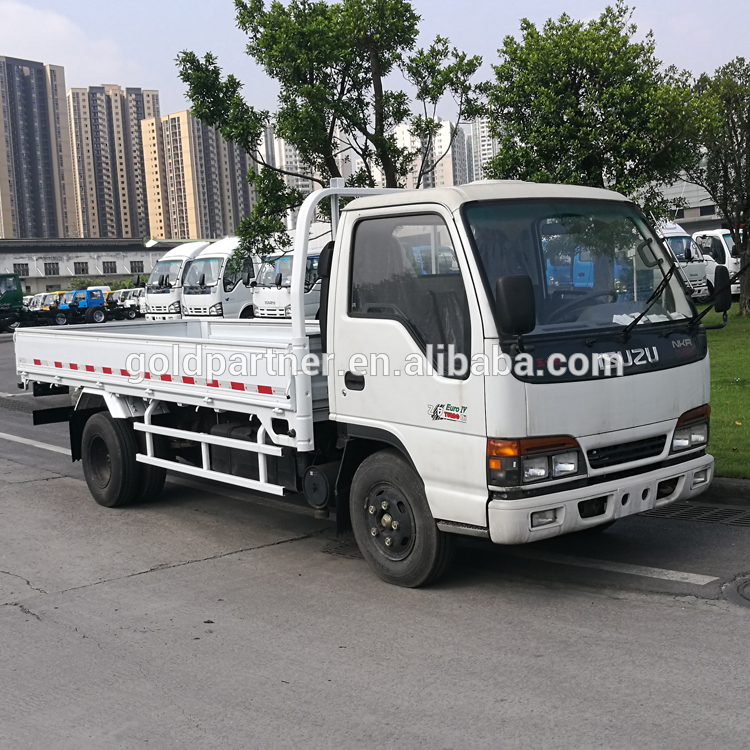truck: (11, 181, 724, 580)
